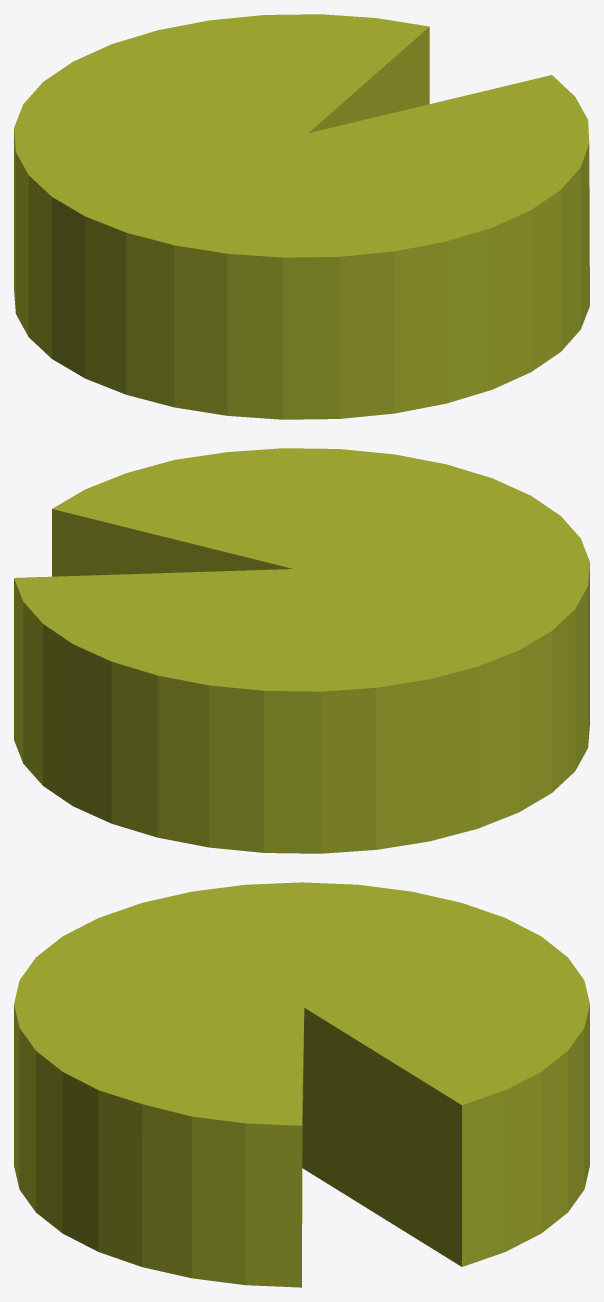
The model's file is cheese.fbx.
The picture shows the model from 3 angles, top to bottom: view 1: azimuth 30°, elevation 25°; view 2: azimuth 150°, elevation 25°; view 3: azimuth 270°, elevation 25°; orthographic projection.
Parts seen in each view (by area): view 1: Cylinder; view 2: Cylinder; view 3: Cylinder.
Boxes of the visible parts, x1,y1,x2,y2 form: Cylinder: (14, 14, 589, 419); Cylinder: (14, 448, 589, 853); Cylinder: (14, 882, 589, 1287).
Size of the model in its own units: 200 by 62.33 by 200.
